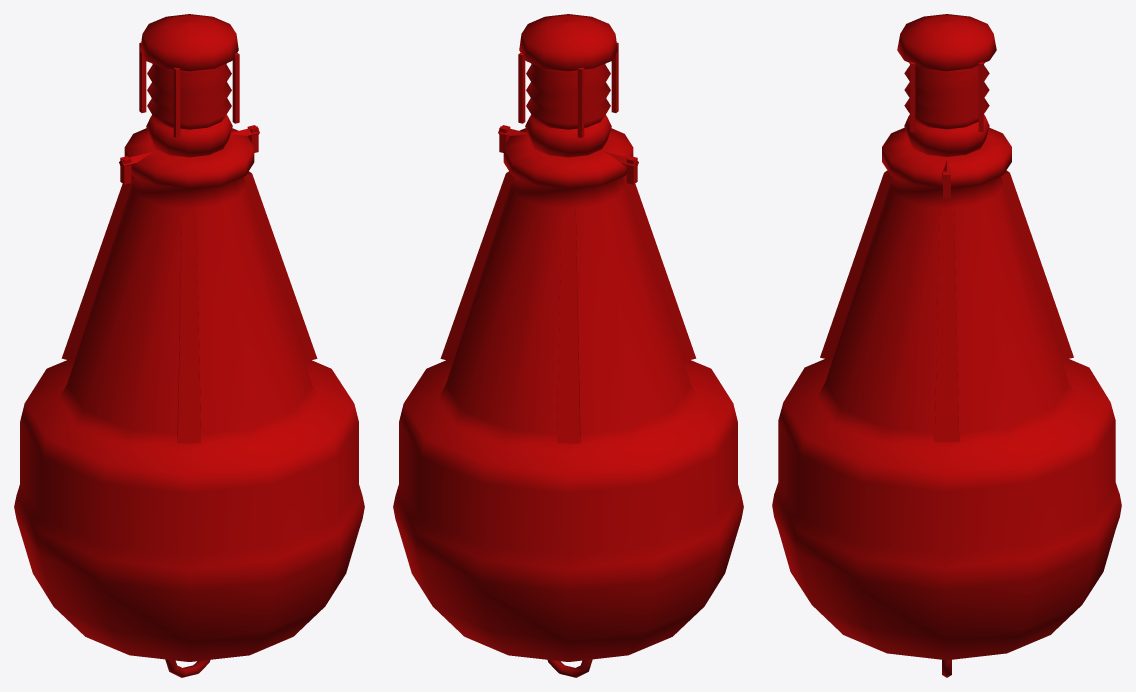
The model's file is gatemark.glb.
3 views of the same model, side by side, from view 1: azimuth 30°, elevation 25°; view 2: azimuth 150°, elevation 25°; view 3: azimuth 270°, elevation 25° (orthographic).
Visible parts, largest first — view 1: mark; view 2: mark; view 3: mark.
Boxes of the visible parts, x1,y1,x2,y2 form: mark: (14,14,364,677); mark: (393,14,743,677); mark: (772,14,1121,677).
Size of the model in its own units: 1.34 by 2.76 by 1.34.
